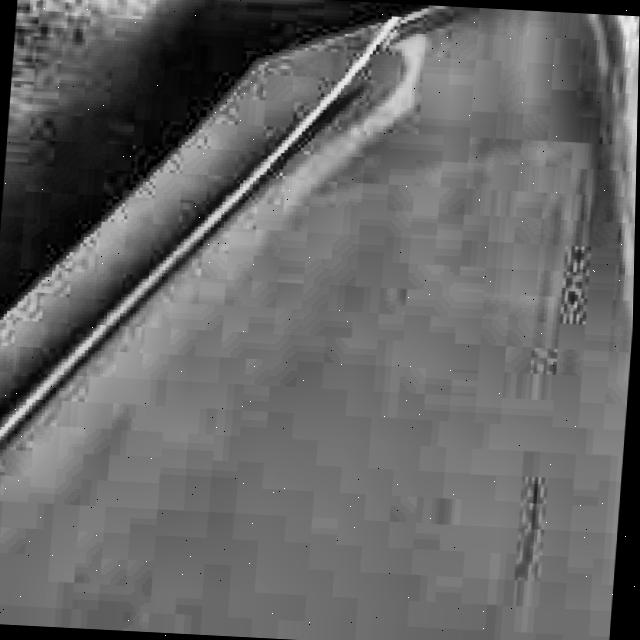door_scratch: (498, 462, 564, 614)
